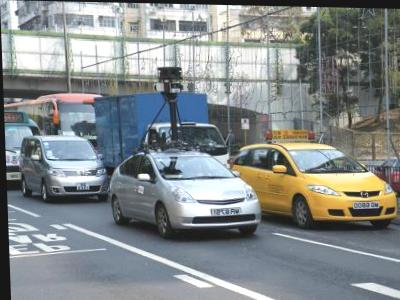License_Plate: (210, 206, 241, 218), (351, 199, 379, 210), (75, 181, 95, 192), (8, 171, 23, 180)
